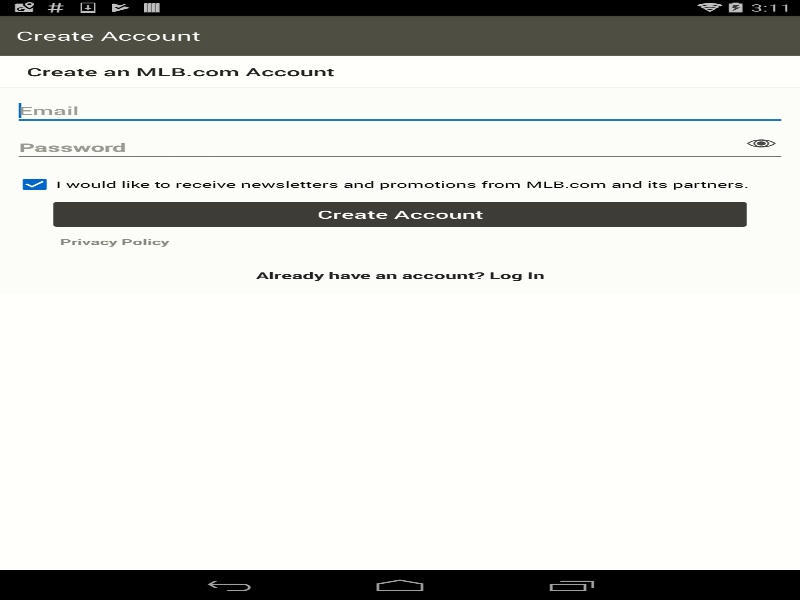Input: (13, 96, 786, 125), (13, 133, 786, 161)
